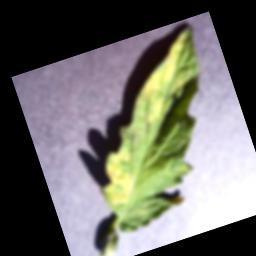Leaf_Mold: (117, 24, 216, 128), (89, 145, 145, 212)
